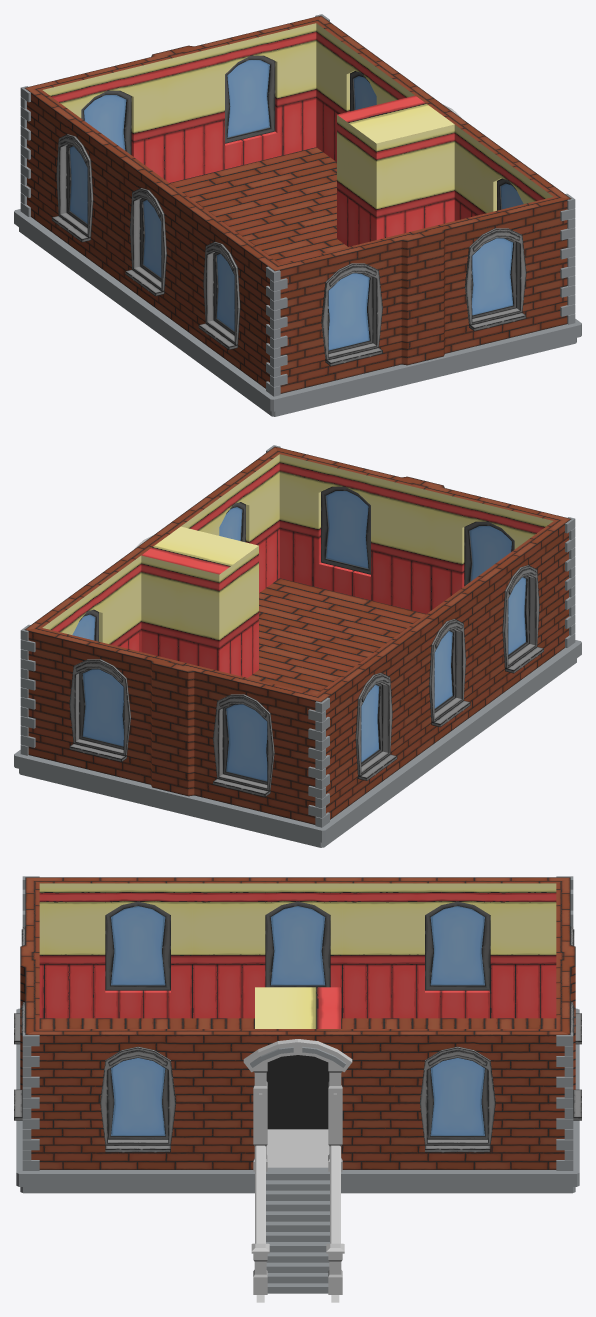
File: House01_Floor1.fbx
3 renders of one model, top to bottom at view 1: azimuth 30°, elevation 25°; view 2: azimuth 150°, elevation 25°; view 3: azimuth 270°, elevation 25°, orthographic. The views are drawn at different scales.
Visible parts, largest first — view 1: Plane.029; view 2: Plane.029; view 3: Plane.029.
Boxes of the visible parts, x1,y1,x2,y2 form: Plane.029: (14, 14, 581, 416); Plane.029: (14, 445, 581, 847); Plane.029: (14, 876, 581, 1302).
Size of the model in its own units: 867 by 435 by 990.
